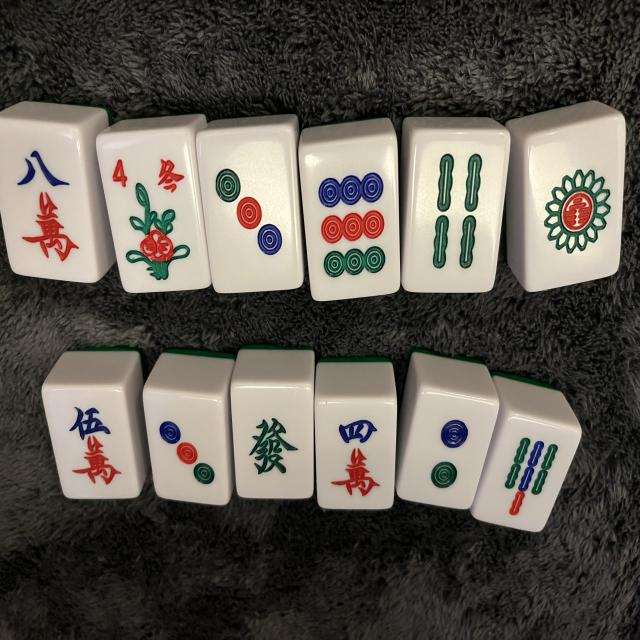1D: (511, 113, 623, 294)
2D: (395, 390, 498, 512)
3D: (192, 125, 305, 297), (147, 393, 235, 508)
4B: (404, 126, 509, 291)
4C: (318, 402, 397, 512)
4S: (97, 127, 209, 290)
5C: (44, 385, 140, 500)
7B: (476, 415, 585, 536)
8C: (0, 120, 97, 287)
9D: (298, 135, 401, 304)
GD: (230, 384, 314, 500)
